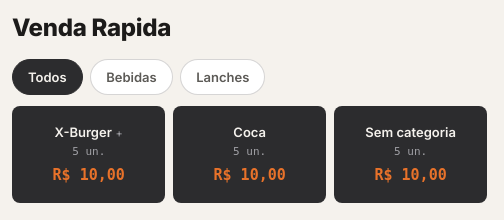
Scenario: ProductGrid › switches category and back to Todos
Click the button "Bebidas". click: (131, 77)
box: left=90, top=59, right=173, bottom=95
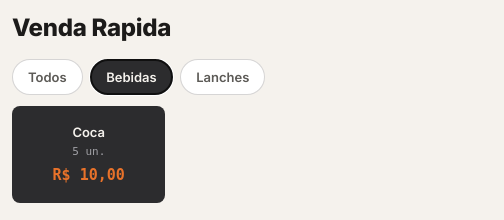
expect the text "Coca" is shown: met, box left=72, top=123, right=105, bottom=141
expect the button "X-Burger" is gone: met
Click the button "Todos". click: (47, 77)
box: left=12, top=59, right=83, bottom=95
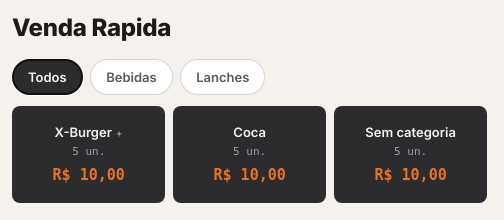
expect the text "X-Burger" is shown: met, box left=54, top=124, right=112, bottom=140
